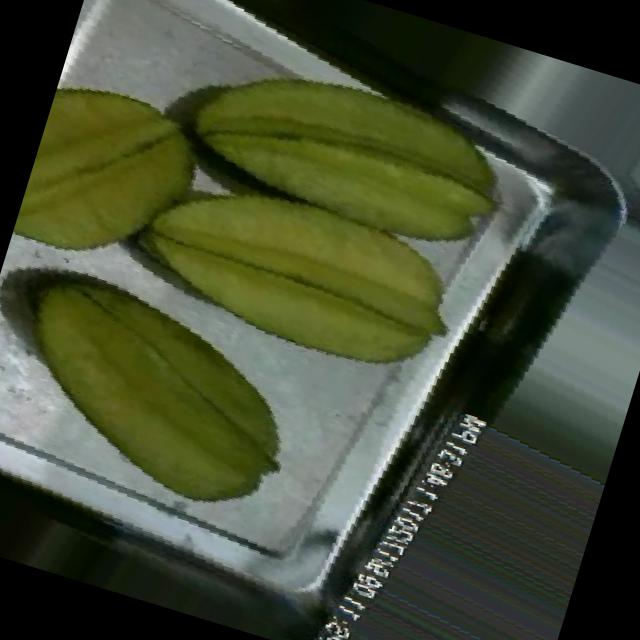fruit: (88, 16, 536, 449), (0, 234, 346, 546), (362, 382, 618, 640), (3, 49, 236, 312)
